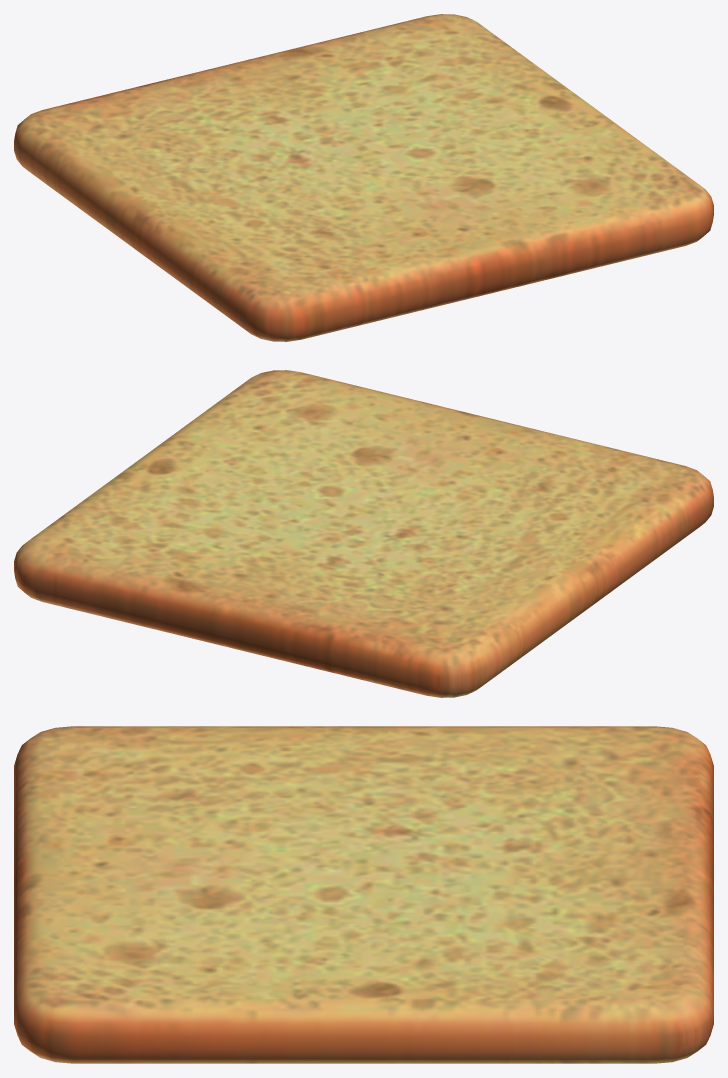
File: candy_waf_8.fbx
The picture shows the model from 3 angles, top to bottom: view 1: azimuth 30°, elevation 25°; view 2: azimuth 150°, elevation 25°; view 3: azimuth 270°, elevation 25°; orthographic projection. The views are drawn at different scales.
Parts seen in each view (by area): view 1: c_w_8; view 2: c_w_8; view 3: c_w_8.
Boxes of the visible parts, left/top/right/bottom form: c_w_8: left=14, top=14, right=713, bottom=341; c_w_8: left=14, top=370, right=713, bottom=697; c_w_8: left=14, top=726, right=713, bottom=1063.
Size of the model in its own units: 179 by 16.67 by 179.
